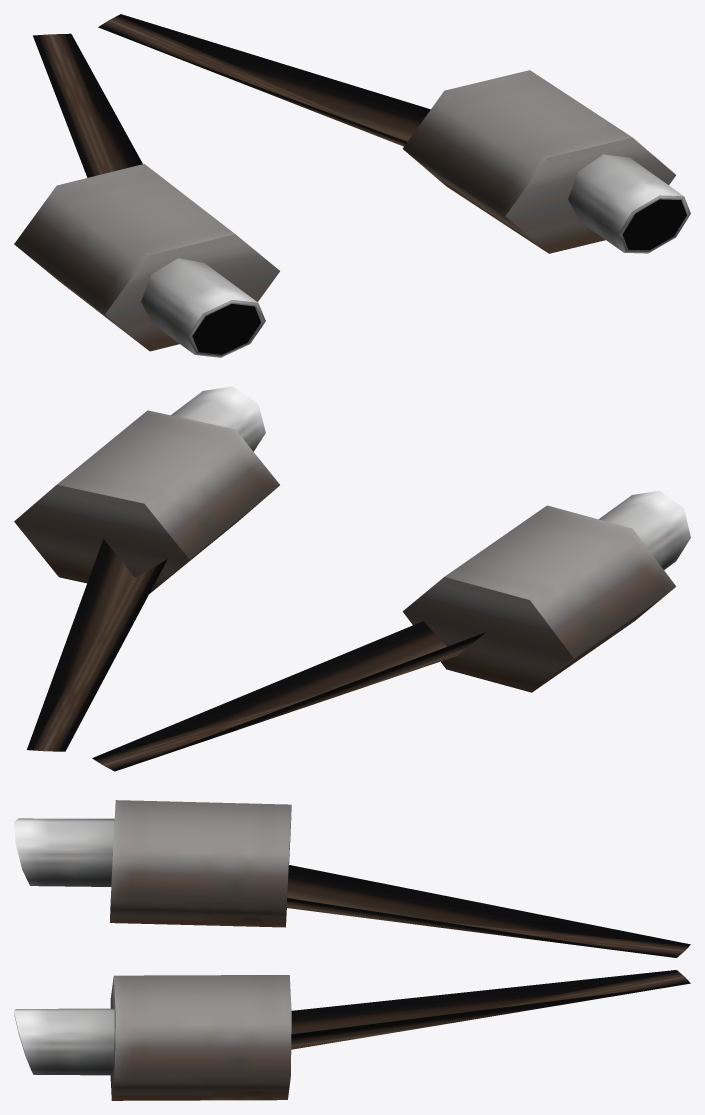
Rendered from exh_c_l.glb.
The picture shows the model from 3 angles, top to bottom: view 1: azimuth 30°, elevation 25°; view 2: azimuth 150°, elevation 25°; view 3: azimuth 270°, elevation 25°; orthographic projection. The views are drawn at different scales.
Visible parts, largest first — view 1: exh_c_l; view 2: exh_c_l; view 3: exh_c_l.
Boxes of the visible parts, box(x1,y1,x2,y2) form: exh_c_l: box(14, 14, 690, 357); exh_c_l: box(14, 386, 690, 771); exh_c_l: box(14, 800, 690, 1100).
Size of the model in its own units: 1.28 by 0.2088 by 1.44.
Materials: 2 (2 with a texture image).
